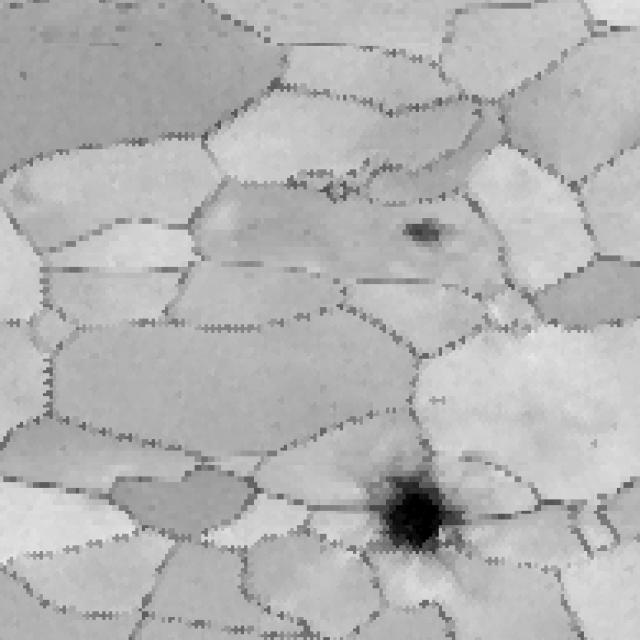good_void: (355, 437, 474, 559), (395, 212, 477, 258), (425, 391, 451, 406)
